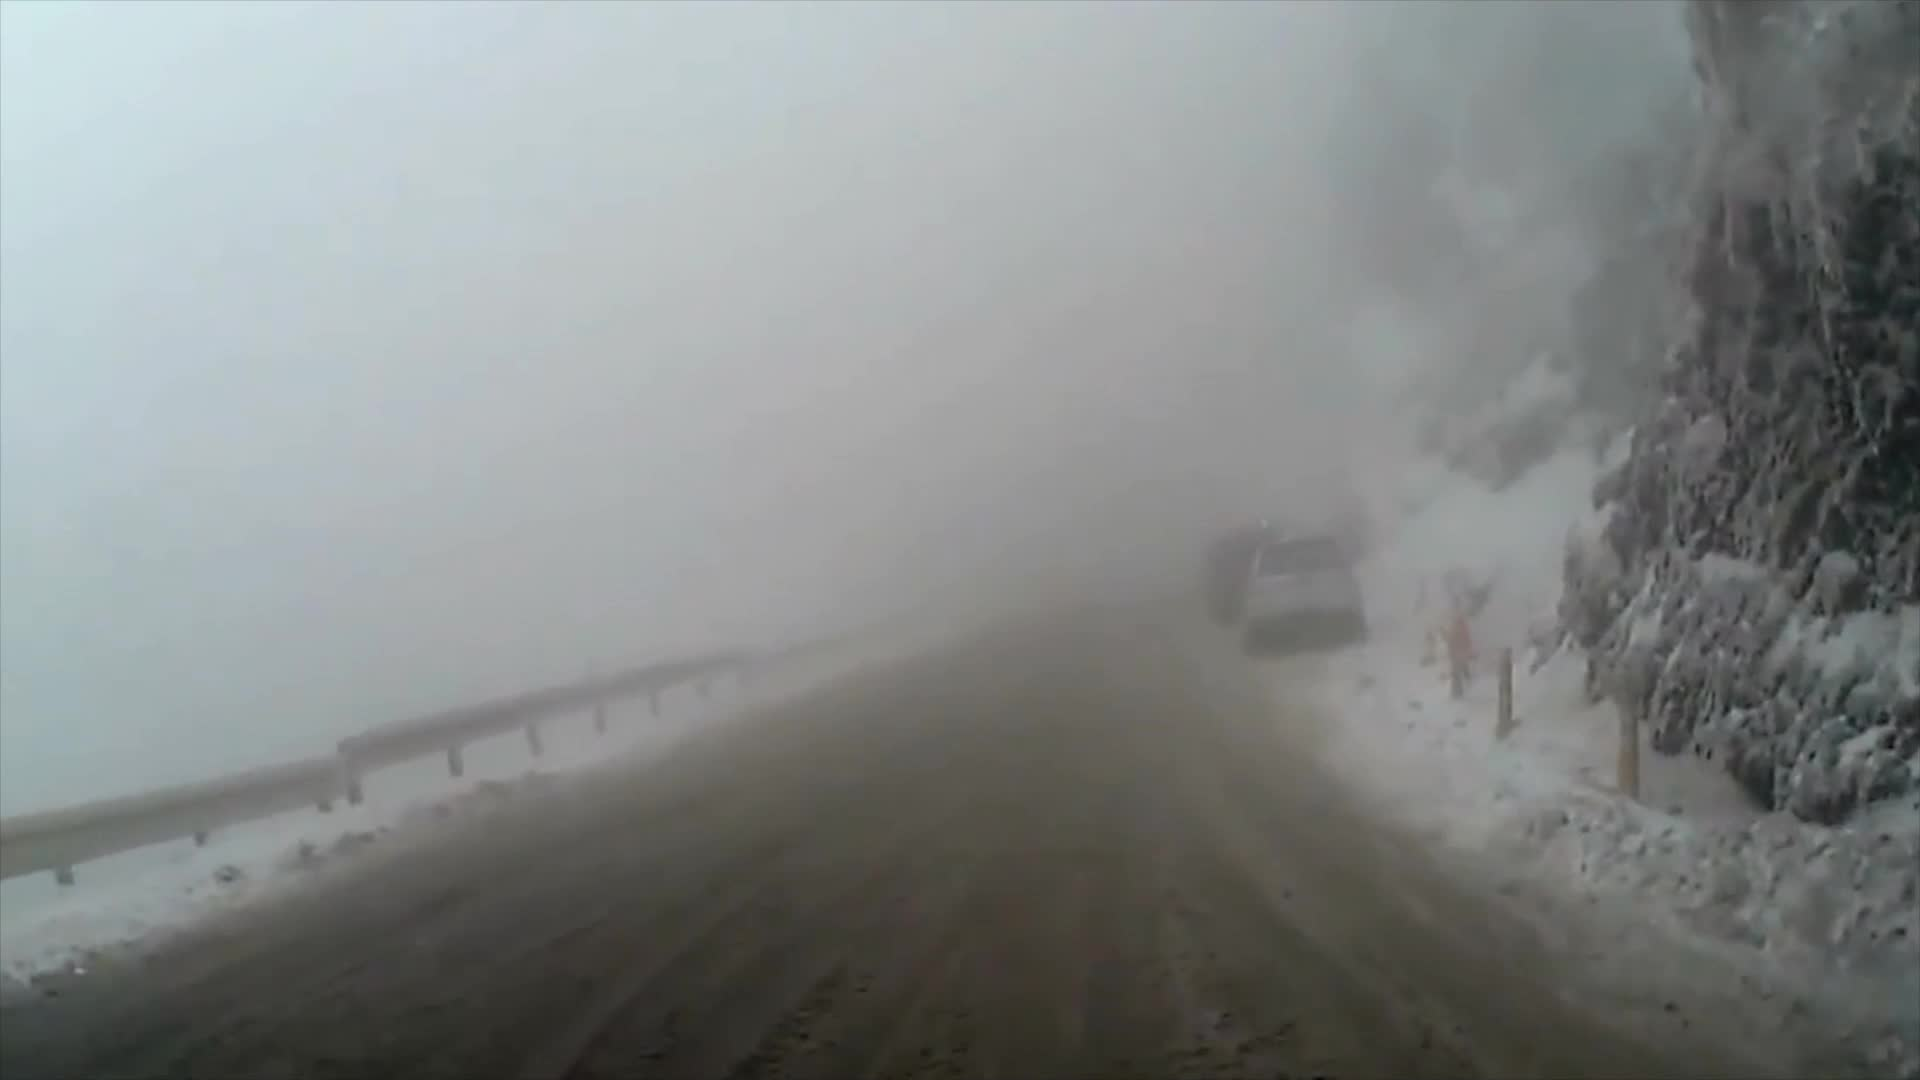vehicle: (1237, 529, 1365, 650)
